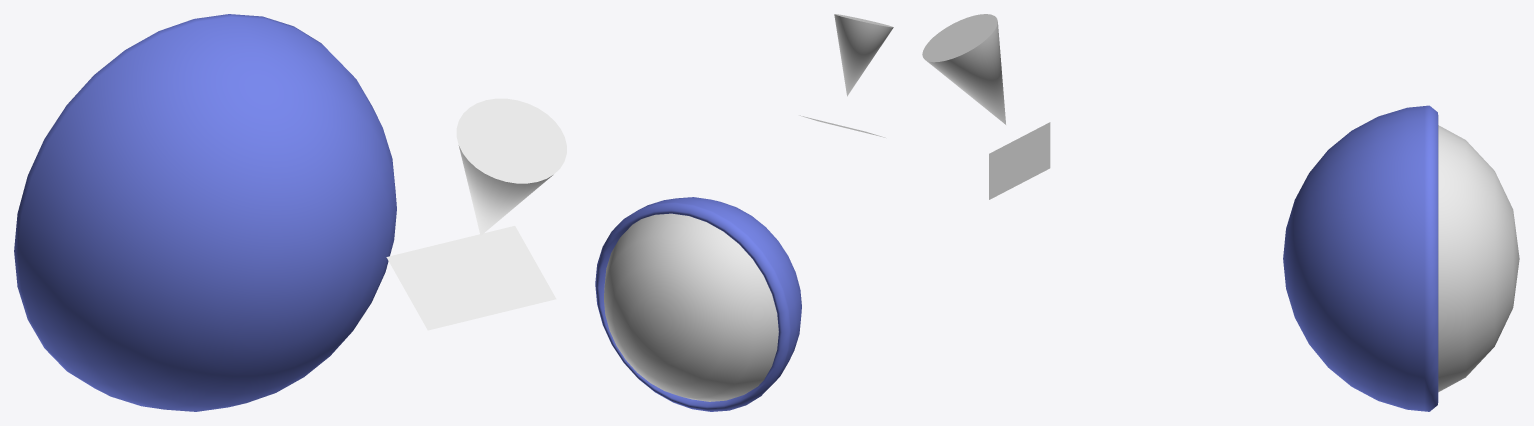
The model's file is multitool_flashlight_sm.fbx.
3 views of the same model, side by side, from view 1: azimuth 30°, elevation 25°; view 2: azimuth 150°, elevation 25°; view 3: azimuth 270°, elevation 25° (orthographic). The views are drawn at different scales.
Parts seen in each view (by area): view 1: Cone.001; view 2: Cone.001; view 3: Cone.001.
Boxes of the visible parts, x1=… form: Cone.001: x1=14, y1=14, x2=566, y2=411; Cone.001: x1=595, y1=14, x2=893, y2=411; Cone.001: x1=922, y1=14, x2=1519, y2=411.
Size of the model in its own units: 0.0864 by 0.1168 by 0.1682.
